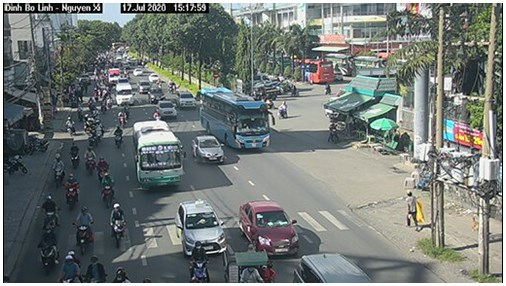di_bo: (402, 188, 421, 231)
xe_buyt: (199, 86, 273, 151), (131, 120, 185, 192)
xe_hoi: (239, 196, 299, 256), (170, 197, 228, 254), (192, 133, 228, 169), (157, 98, 178, 120)
xe_khach: (115, 82, 133, 106)
xe_may: (71, 204, 94, 253), (108, 201, 129, 251), (39, 225, 58, 275), (190, 240, 209, 281), (42, 195, 61, 232), (50, 153, 66, 188), (65, 170, 79, 205), (101, 168, 115, 200), (65, 143, 81, 170), (97, 152, 109, 182), (111, 124, 126, 148), (85, 146, 97, 175), (277, 98, 288, 120)
